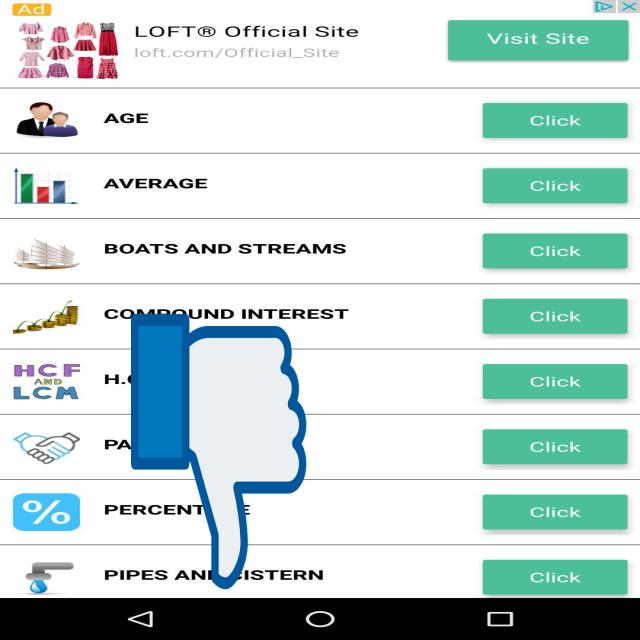obstruction: (131, 308, 306, 595)
